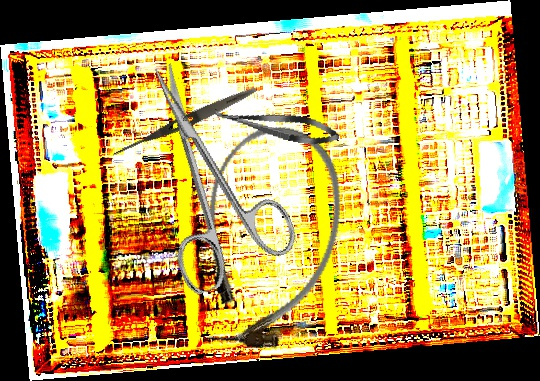Cannula: (177, 112, 360, 364)
Dressing Forceps: (109, 83, 259, 162)
Iris Scissors: (110, 43, 304, 298)
Micro Scissor: (211, 100, 342, 150)
